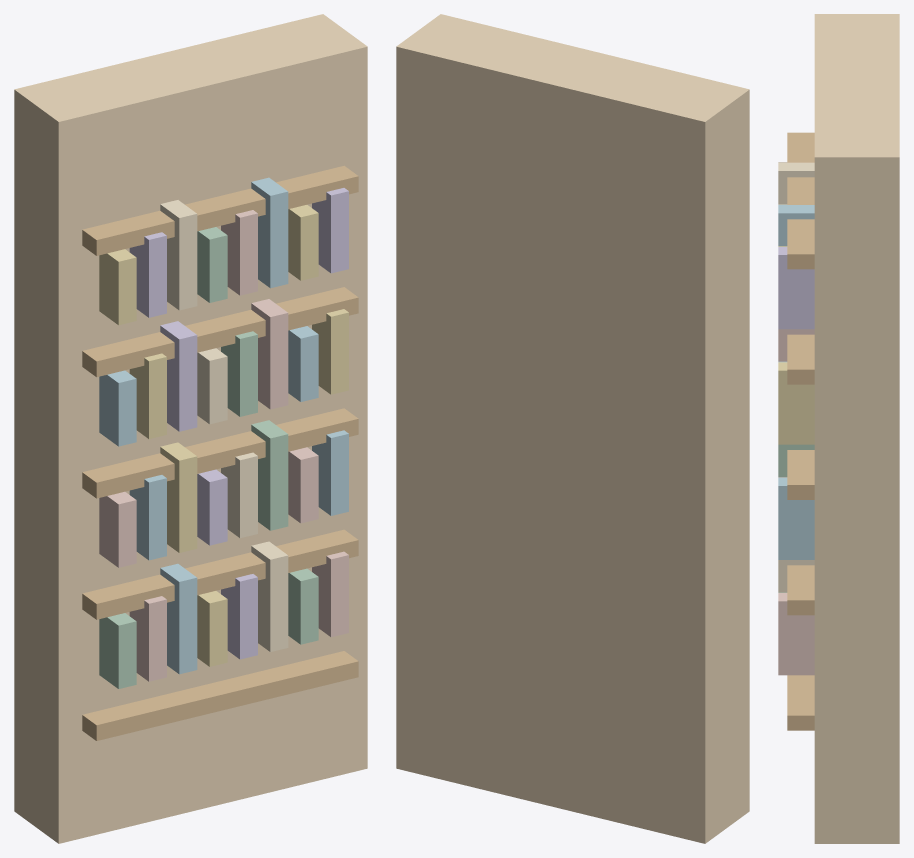
Rendered from bookcase.glb.
3 renders of one model, left to right at view 1: azimuth 30°, elevation 25°; view 2: azimuth 150°, elevation 25°; view 3: azimuth 270°, elevation 25°, orthographic. The views are drawn at different scales.
Parts seen in each view (by area): view 1: bookcase; view 2: bookcase; view 3: bookcase.
Boxes of the visible parts, bbox=[...] form: bookcase: bbox=[14, 14, 367, 843]; bookcase: bbox=[396, 14, 749, 843]; bookcase: bbox=[778, 14, 899, 843].
Bounding box in the file's own units: 1.12 × 2.5 × 0.4.
